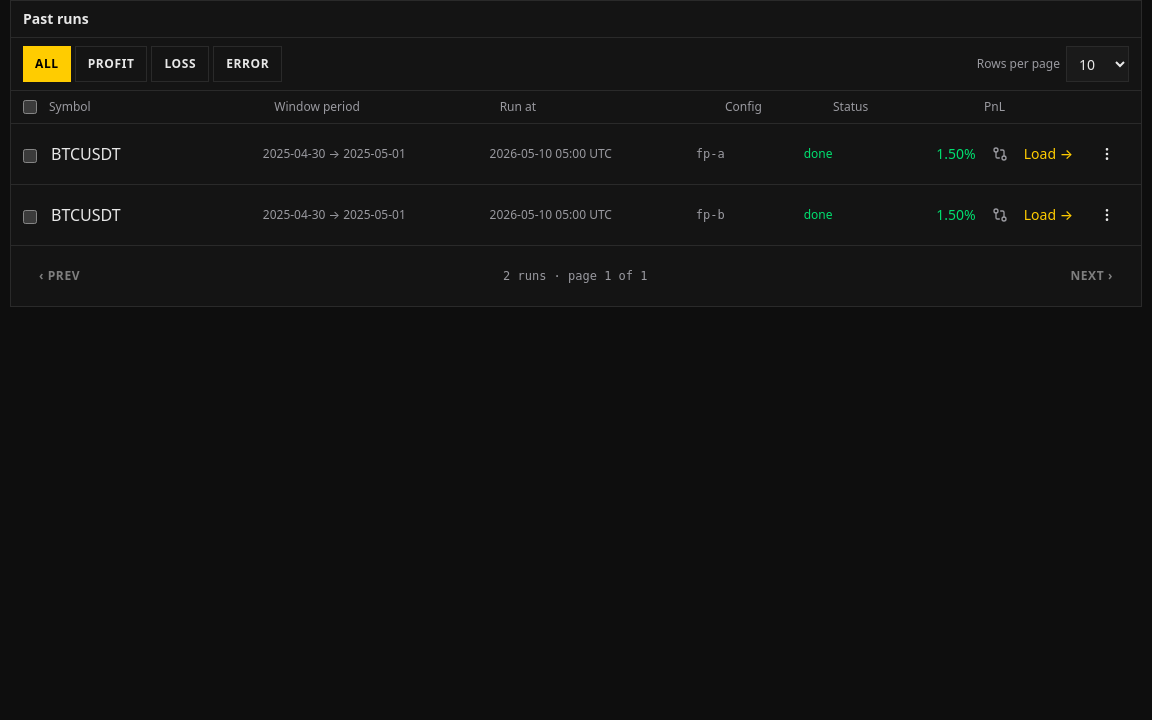
it: past runs: picking two runs to compare their configs › refuses the comparison outright when a run detail could not be loaded
Step 1. Click the button named "Compare config of BTCUSDT run a1111111 from 2026-05-10 05:00" → (1000, 154), box top-left (988, 142), bottom-right (1012, 166)
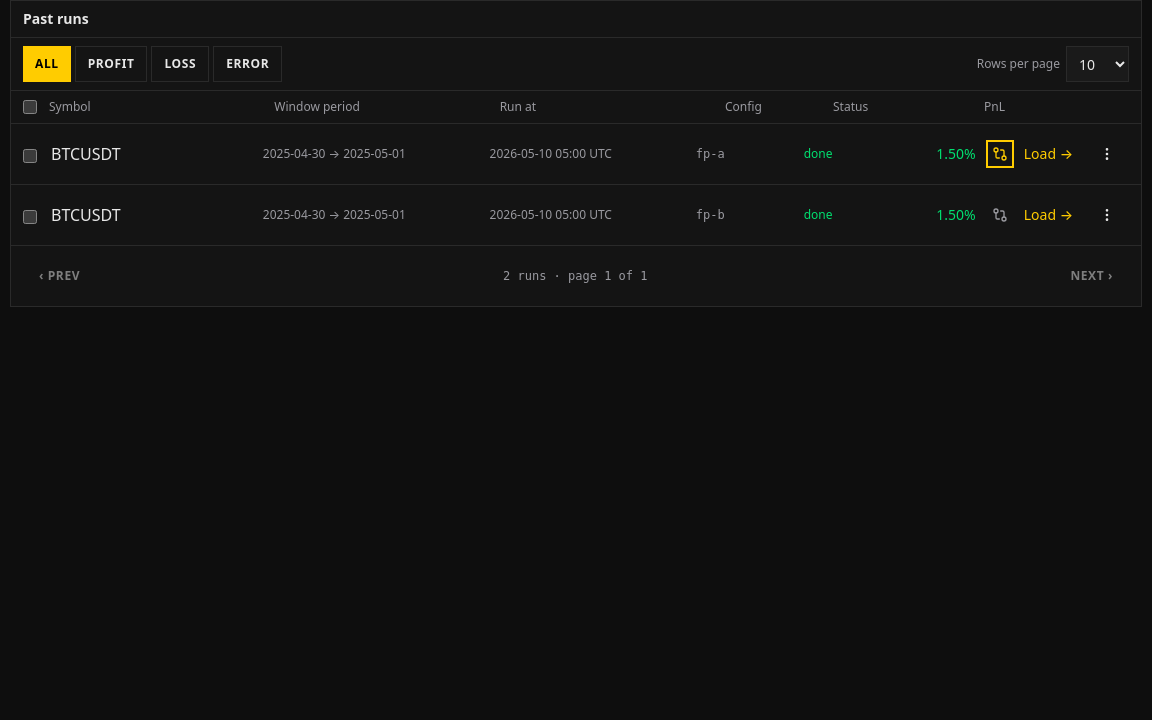
Step 2. Click the button named "Compare config of BTCUSDT run a2222222 from 2026-05-10 05:00" → (1000, 215), box top-left (988, 203), bottom-right (1012, 227)
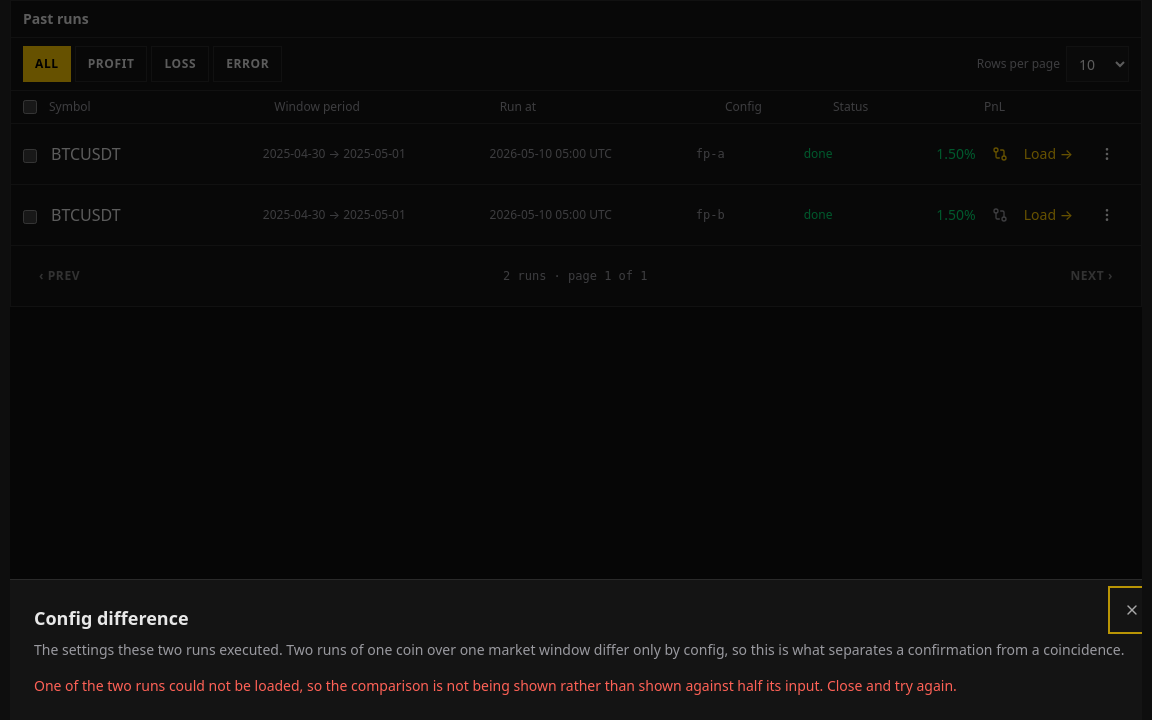
expect the text with test id "backtest-config-compare-error" is shown: met, box top-left (34, 676), bottom-right (957, 695)
